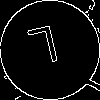L: (25, 25, 63, 76)
